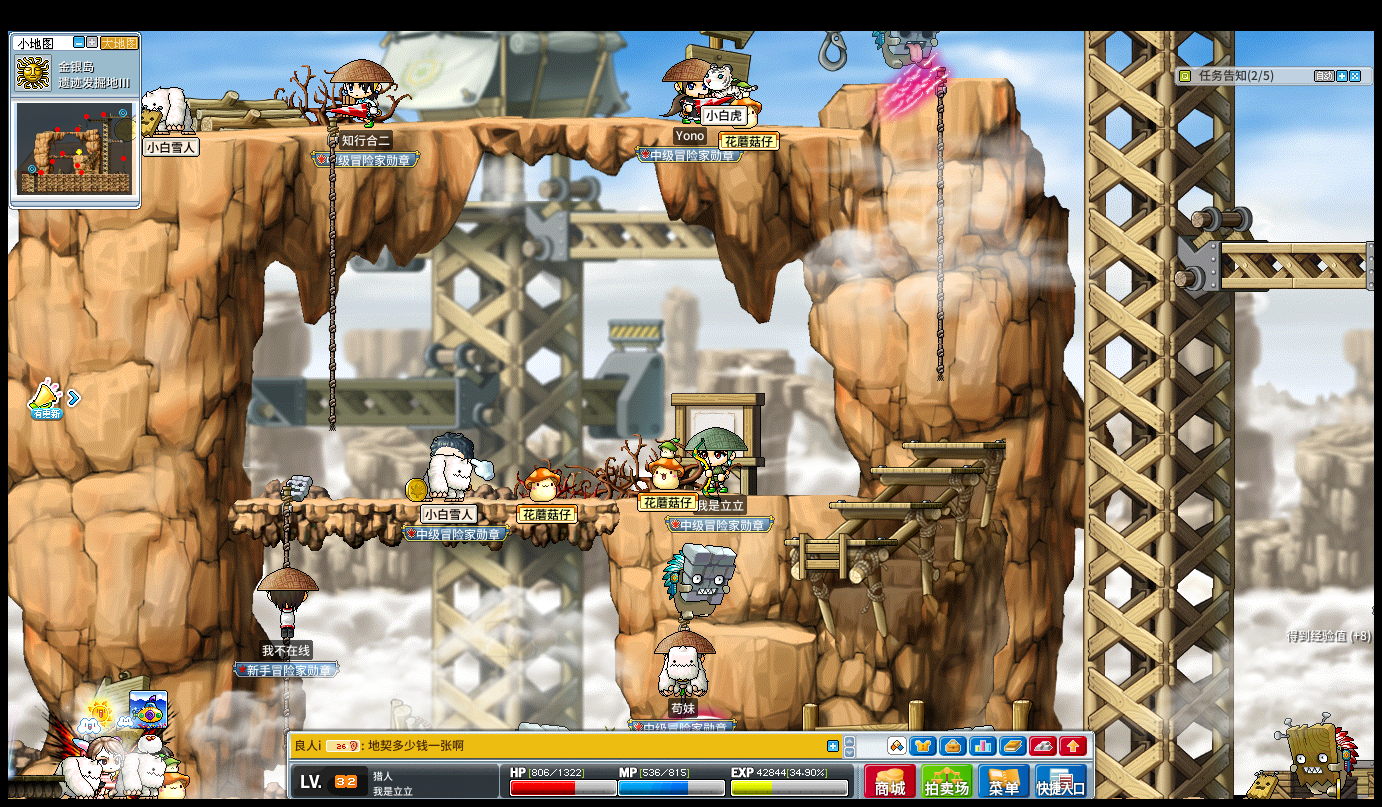floor: (229, 497, 609, 508), (1221, 234, 1373, 258), (705, 622, 813, 643), (780, 536, 898, 550), (705, 491, 863, 500), (781, 533, 896, 545), (828, 498, 939, 509), (863, 464, 980, 474), (903, 440, 1007, 449)
monster: (1279, 716, 1358, 794), (661, 543, 736, 624), (878, 29, 932, 85)
rope: (932, 62, 947, 379), (326, 116, 337, 433), (279, 484, 293, 567)
